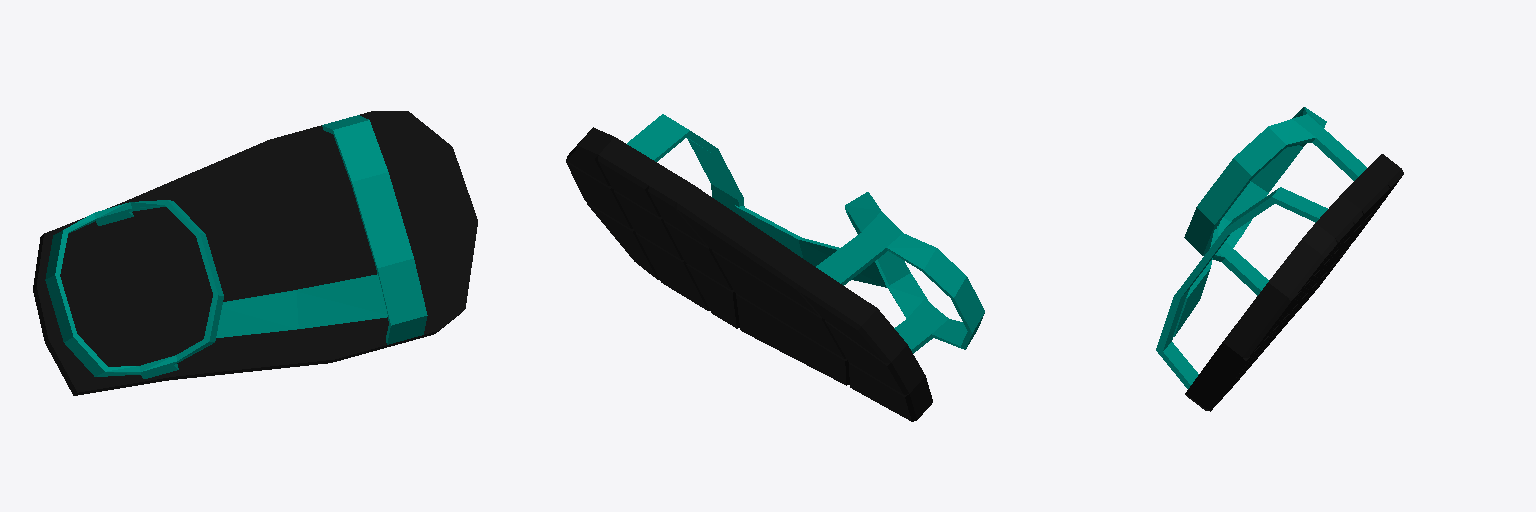
3 renders of one model, left to right at view 1: azimuth 30°, elevation 25°; view 2: azimuth 150°, elevation 25°; view 3: azimuth 270°, elevation 25°, orthographic.
Parts seen in each view (by area): view 1: Sandal_Cube.035; view 2: Sandal_Cube.035; view 3: Sandal_Cube.035.
Boxes of the visible parts, box(x1,y1,x2,y2) form: Sandal_Cube.035: box(33, 111, 477, 395); Sandal_Cube.035: box(566, 114, 984, 421); Sandal_Cube.035: box(1156, 107, 1403, 411).
Bounding box in the file's own units: 0.7791 × 0.4188 × 0.4196.